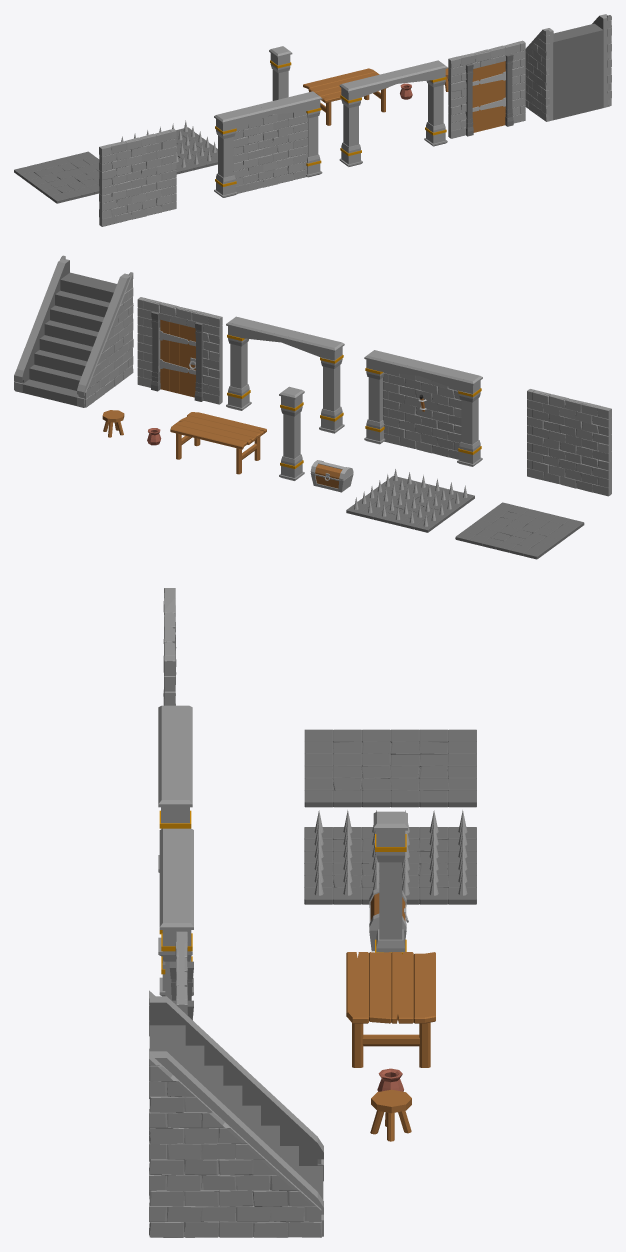
The model's file is lp-dungeon.glb.
The picture shows the model from 3 angles, top to bottom: view 1: azimuth 30°, elevation 25°; view 2: azimuth 150°, elevation 25°; view 3: azimuth 270°, elevation 25°; orthographic projection. The views are drawn at different scales.
Visible parts, largest first — view 1: WallGateJoined, Stairs, Full Wall, DoorWALL, WallGate, Floor, Door, FlorTrap, Table, Pillar; view 2: Stairs, WallGateJoined, Full Wall, DoorWALL, WallGate, FlorTrap, Floor, Table, Door, Pillar, Chest, Stoll; view 3: Stairs, Floor, FlorTrap, Table, WallGate, WallGateJoined, Pillar, DoorWALL, Full Wall, Stoll.
Boxes of the visible parts, bbox=[...] form: WallGateJoined: bbox=[214, 91, 322, 197]; Stairs: bbox=[525, 14, 611, 121]; Full Wall: bbox=[99, 129, 176, 226]; DoorWALL: bbox=[448, 40, 525, 138]; WallGate: bbox=[339, 60, 447, 166]; Floor: bbox=[14, 151, 99, 203]; Door: bbox=[472, 61, 505, 132]; FlorTrap: bbox=[121, 120, 217, 174]; Table: bbox=[303, 68, 388, 125]; Pillar: bbox=[269, 46, 292, 100]; Stairs: bbox=[14, 255, 133, 407]; WallGateJoined: bbox=[364, 350, 482, 466]; Full Wall: bbox=[527, 389, 611, 496]; DoorWALL: bbox=[137, 297, 222, 404]; WallGate: bbox=[226, 316, 344, 433]; FlorTrap: bbox=[346, 469, 474, 532]; Floor: bbox=[455, 502, 584, 559]; Table: bbox=[170, 412, 266, 474]; Door: bbox=[159, 319, 195, 397]; Pillar: bbox=[279, 386, 304, 480]; Chest: bbox=[310, 460, 353, 492]; Stoll: bbox=[102, 410, 124, 437]; Stairs: bbox=[149, 990, 323, 1237]; Floor: bbox=[304, 729, 476, 807]; FlorTrap: bbox=[304, 810, 476, 904]; Table: bbox=[346, 952, 435, 1067]; WallGate: bbox=[159, 828, 193, 1000]; WallGateJoined: bbox=[158, 705, 192, 956]; Pillar: bbox=[373, 811, 407, 954]; DoorWALL: bbox=[169, 931, 193, 1020]; Full Wall: bbox=[163, 588, 176, 705]; Stoll: bbox=[370, 1089, 411, 1141].
Bounding box in the file's own units: 20.74 × 3.53 × 5.7.
